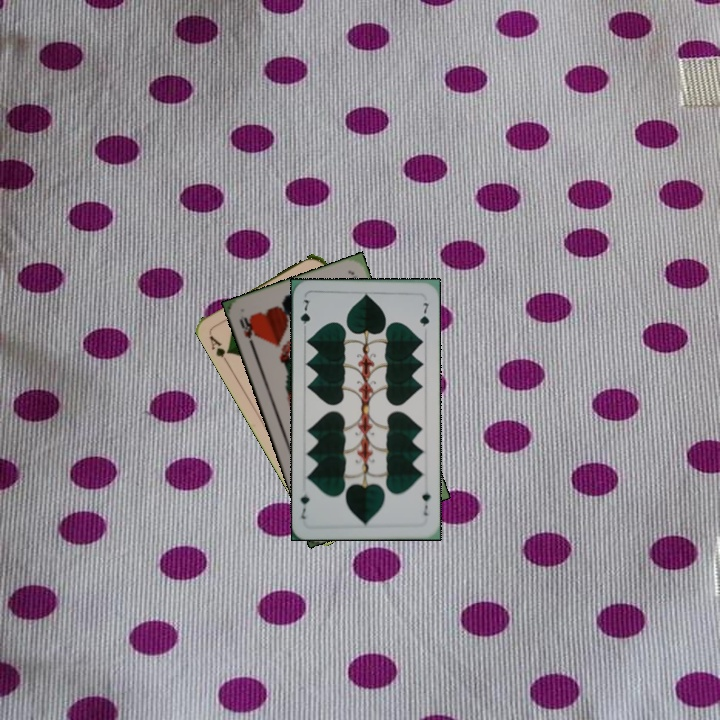G7: (296, 296, 313, 335), (418, 488, 433, 518)
GA: (205, 330, 233, 367)
HO: (235, 313, 258, 350)
